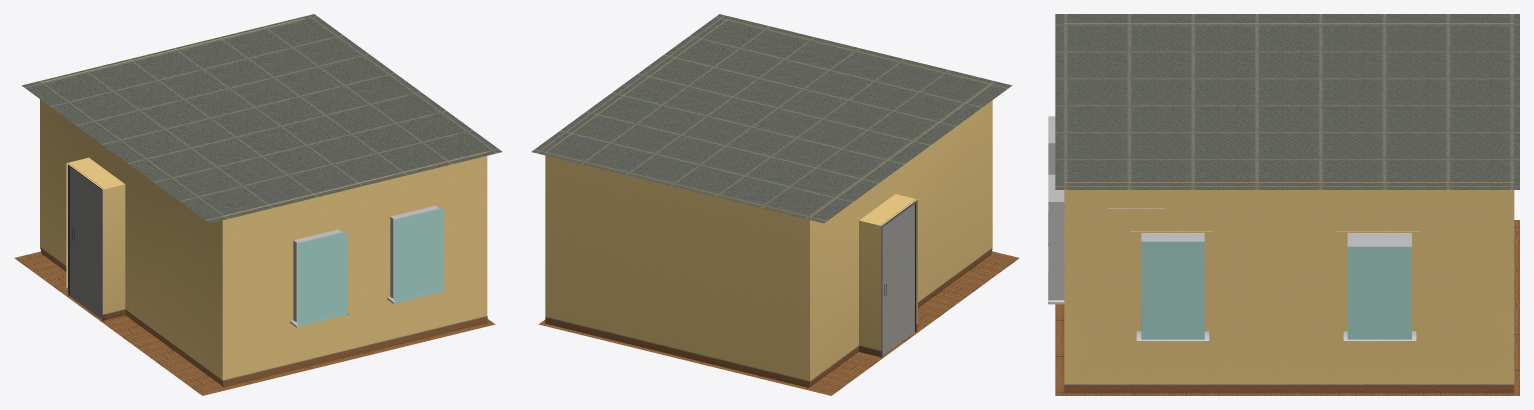
Rendered from dsp.fbx.
3 renders of one model, left to right at view 1: azimuth 30°, elevation 25°; view 2: azimuth 150°, elevation 25°; view 3: azimuth 270°, elevation 25°, orthographic. The views are drawn at different scales.
Visible parts, largest first — view 1: DCP, DCP.003, DCP.004, DCP.002, door.001, plastic.002, DCP.001; view 2: DCP, DCP.003, DCP.002, door.001; view 3: DCP.003, DCP, DCP.004, plastic.002, DCP.002.
Boxes of the visible parts, box(x1,y1,x2,y2) form: DCP: box(40, 18, 487, 386); DCP.003: box(21, 14, 502, 223); DCP.004: box(297, 208, 444, 326); DCP.002: box(14, 251, 495, 395); door.001: box(69, 168, 101, 319); plastic.002: box(290, 205, 444, 327); DCP.001: box(296, 207, 443, 326); DCP: box(545, 19, 992, 387); DCP.003: box(531, 14, 1012, 223); DCP.002: box(538, 251, 1019, 395); door.001: box(882, 204, 914, 355); DCP.003: box(1055, 14, 1519, 189); DCP: box(1064, 23, 1514, 393); DCP.004: box(1141, 241, 1411, 339); plastic.002: box(1048, 116, 1416, 340); DCP.002: box(1055, 220, 1519, 395).
Bounding box in the file's own units: 536 × 284 × 572.
